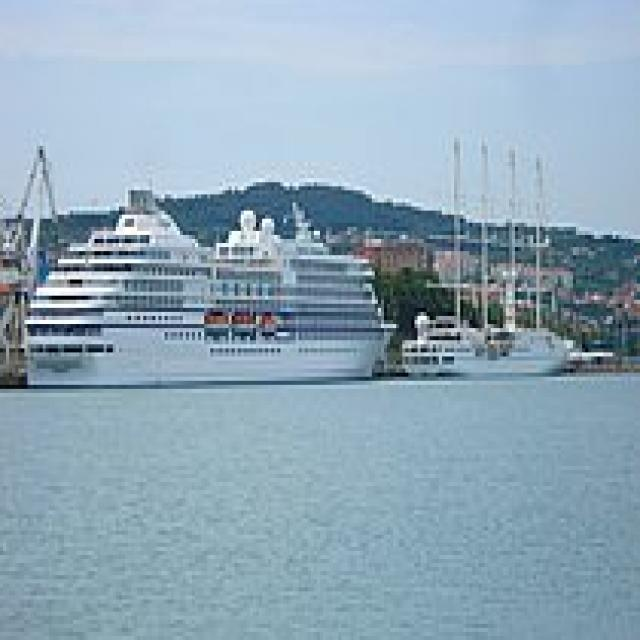Cruise: (18, 182, 396, 389), (396, 134, 610, 376)
